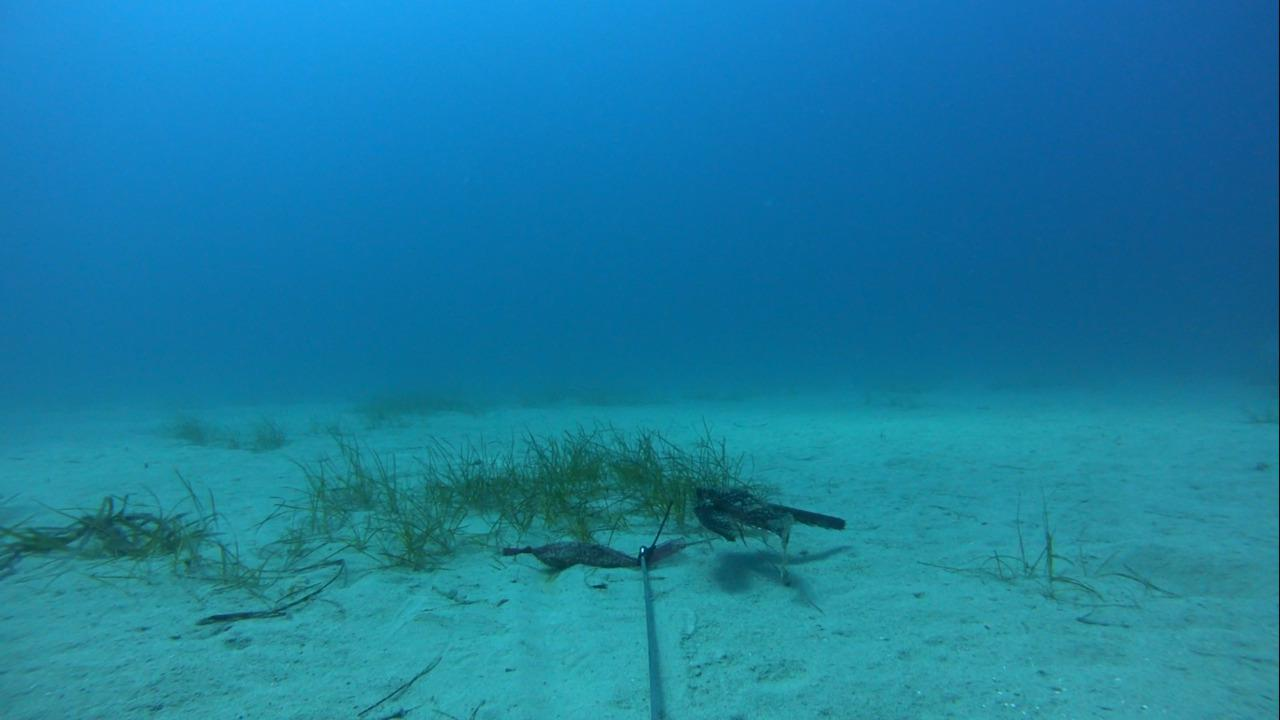dactylopterus: (674, 480, 855, 556)
